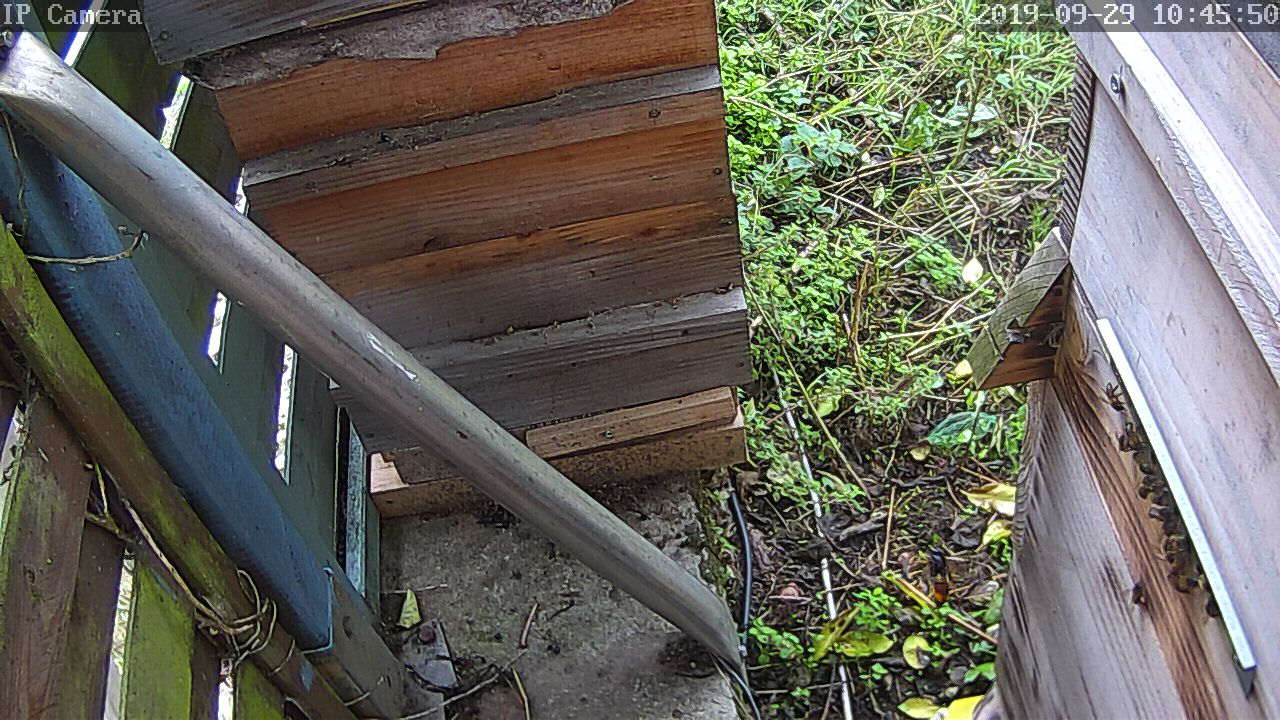bee: (1132, 461, 1173, 516), (1151, 521, 1194, 568), (1109, 415, 1148, 456), (1165, 561, 1203, 597), (1101, 378, 1129, 418)
hornet: (903, 534, 964, 602)
